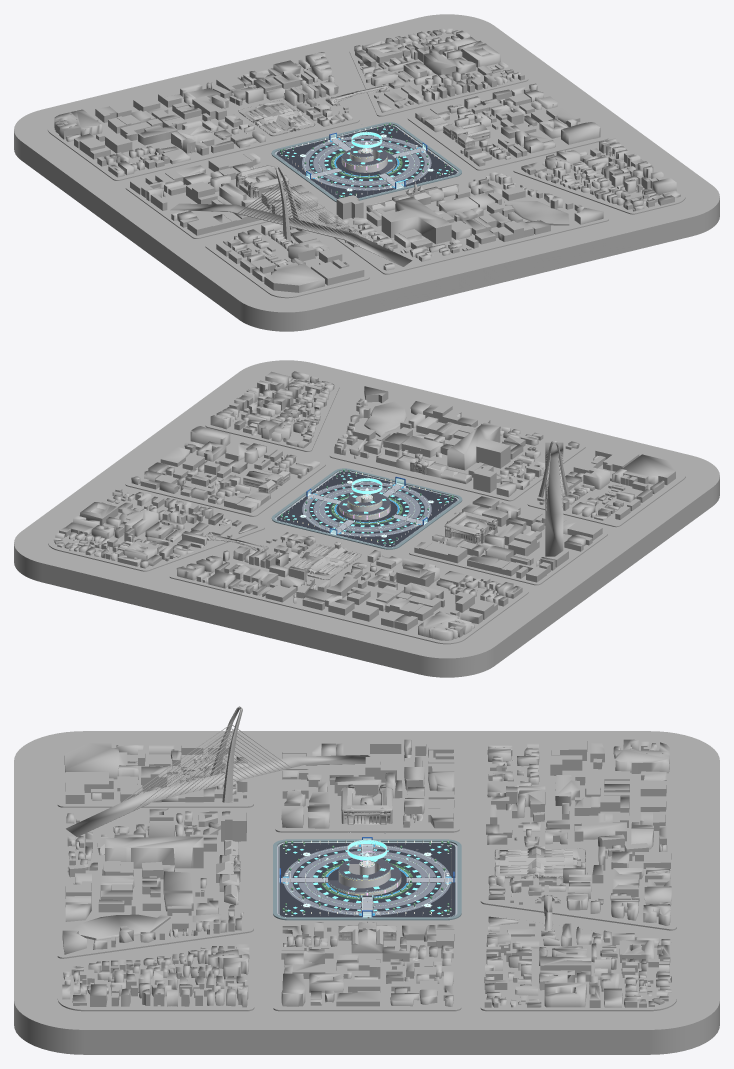
The model's file is expo.glb.
3 renders of one model, top to bottom at view 1: azimuth 30°, elevation 25°; view 2: azimuth 150°, elevation 25°; view 3: azimuth 270°, elevation 25°, orthographic. The views are drawn at different scales.
Visible parts, largest first — view 1: polySurface1131, Building, Hall_Floor, Floor_Paving, Spiral_Ramp, Slot_Footprints; view 2: polySurface1131, Building, Hall_Floor, Floor_Paving, Spiral_Ramp, Slot_Footprints; view 3: polySurface1131, Building, Hall_Floor, Floor_Paving, Spiral_Ramp, Slot_Footprints, Hall_Floor_Glow.
Part boxes in pixels (box(x1,y1,x2,y2)): polySurface1131: box(14, 14, 719, 331); Building: box(54, 28, 680, 292); Hall_Floor: box(276, 125, 457, 198); Floor_Paving: box(302, 135, 431, 190); Spiral_Ramp: box(341, 146, 395, 173); Slot_Footprints: box(285, 128, 448, 196); polySurface1131: box(14, 360, 719, 677); Building: box(53, 371, 675, 640); Hall_Floor: box(276, 471, 457, 547); Floor_Paving: box(302, 482, 431, 536); Spiral_Ramp: box(339, 492, 390, 520); Slot_Footprints: box(285, 474, 448, 543); polySurface1131: box(14, 731, 719, 1054); Building: box(62, 706, 671, 1007); Hall_Floor: box(278, 843, 455, 917); Floor_Paving: box(279, 844, 455, 916); Spiral_Ramp: box(328, 858, 401, 895); Slot_Footprints: box(286, 846, 447, 914); Hall_Floor_Glow: box(279, 842, 455, 917).
Size of the model in its own units: 1653 by 286 by 1650.
